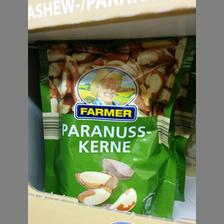Nuss: (34, 36, 190, 216)
